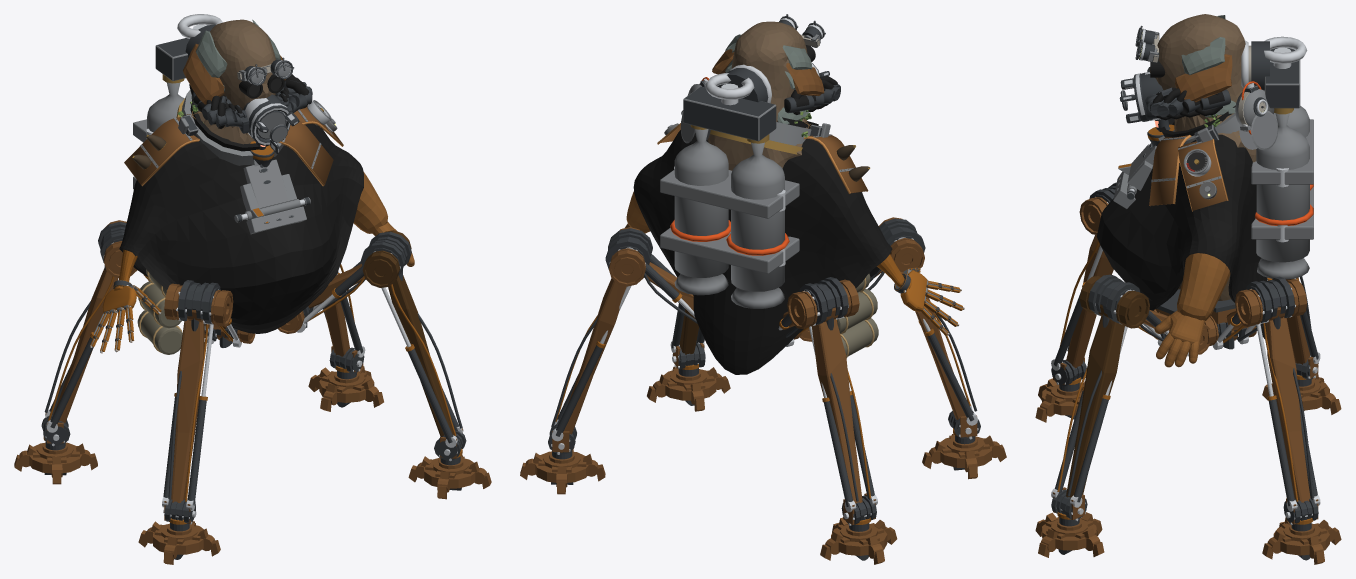
File: strider_elder.fbx
3 renders of one model, left to right at view 1: azimuth 30°, elevation 25°; view 2: azimuth 150°, elevation 25°; view 3: azimuth 270°, elevation 25°, orthographic.
Parts seen in each view (by area): view 1: Mesh_Elder_Chest, Mesh_Elder_Head, Mesh_ElderLeg_FR_Lower, Mesh_ElderLeg_FL_Lower, Mesh_ElderLeg_RR_Lower, Mesh_ElderLeg_RL_Foot, Mesh_ElderLeg_FR_Foot, Mesh_ElderLeg_FL_Upper, Mesh_ElderLeg_FL_Foot, Mesh_ElderLeg_RR_Foot, Mesh_Elder_Pelvis, Mesh_ElderLeg_FR_Upper (+2 smaller); view 2: Mesh_Elder_Head, Mesh_Elder_Chest, Mesh_ElderLeg_RR_Lower, Mesh_ElderLeg_RL_Lower, Mesh_ElderLeg_FR_Lower, Mesh_ElderLeg_RR_Foot, Mesh_ElderLeg_FL_Foot, Mesh_ElderLeg_FR_Foot, Mesh_ElderLeg_RL_Foot, Mesh_Elder_Pelvis, Mesh_ElderLeg_RL_Upper, Mesh_ElderLeg_RR_Upper (+2 smaller); view 3: Mesh_Elder_Chest, Mesh_Elder_Head, Mesh_ElderLeg_RL_Lower, Mesh_ElderLeg_FL_Lower, Mesh_ElderLeg_FR_Lower, Mesh_ElderLeg_FL_Foot, Mesh_ElderLeg_RL_Foot, Mesh_ElderLeg_RL_Upper, Mesh_ElderLeg_FR_Foot, Mesh_ElderLeg_FL_Upper, Mesh_ElderLeg_RR_Foot, Mesh_ElderLeg_RR_Lower.
Boxes of the visible parts, x1,y1,x2,y2 form: Mesh_Elder_Chest: (90, 90, 414, 353); Mesh_Elder_Head: (133, 14, 312, 189); Mesh_ElderLeg_FR_Lower: (162, 280, 233, 510); Mesh_ElderLeg_FL_Lower: (361, 230, 463, 447); Mesh_ElderLeg_RR_Lower: (45, 220, 137, 432); Mesh_ElderLeg_RL_Foot: (308, 346, 383, 411); Mesh_ElderLeg_FR_Foot: (138, 499, 220, 564); Mesh_ElderLeg_FL_Upper: (278, 261, 462, 435); Mesh_ElderLeg_FL_Foot: (408, 428, 491, 499); Mesh_ElderLeg_RR_Foot: (14, 413, 97, 484); Mesh_Elder_Pelvis: (137, 269, 182, 354); Mesh_ElderLeg_FR_Upper: (168, 318, 255, 501); Mesh_Elder_Head: (660, 14, 840, 308); Mesh_Elder_Chest: (625, 77, 964, 374); Mesh_ElderLeg_RR_Lower: (787, 277, 877, 512); Mesh_ElderLeg_RL_Lower: (551, 227, 652, 441); Mesh_ElderLeg_FR_Lower: (878, 217, 977, 425); Mesh_ElderLeg_RR_Foot: (820, 493, 897, 564); Mesh_ElderLeg_FL_Foot: (647, 342, 730, 411); Mesh_ElderLeg_FR_Foot: (922, 405, 1006, 479); Mesh_ElderLeg_RL_Foot: (520, 424, 605, 494); Mesh_Elder_Pelvis: (837, 273, 878, 357); Mesh_ElderLeg_RL_Upper: (551, 247, 697, 427); Mesh_ElderLeg_RR_Upper: (778, 290, 871, 501); Mesh_Elder_Chest: (1096, 81, 1278, 367); Mesh_Elder_Head: (1119, 14, 1313, 279); Mesh_ElderLeg_RL_Lower: (1235, 276, 1320, 511); Mesh_ElderLeg_FL_Lower: (1051, 274, 1149, 507); Mesh_ElderLeg_FR_Lower: (1051, 182, 1116, 370); Mesh_ElderLeg_FL_Foot: (1035, 487, 1104, 557); Mesh_ElderLeg_RL_Foot: (1262, 498, 1341, 564); Mesh_ElderLeg_RL_Upper: (1204, 299, 1314, 501); Mesh_ElderLeg_FR_Foot: (1035, 357, 1086, 422); Mesh_ElderLeg_FL_Upper: (1057, 289, 1210, 496); Mesh_ElderLeg_RR_Foot: (1262, 356, 1341, 414); Mesh_ElderLeg_RR_Lower: (1267, 277, 1320, 364).
Size of the model in its own units: 132 by 159 by 96.1.
